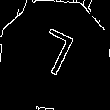L_SW: (30, 26, 80, 84)
